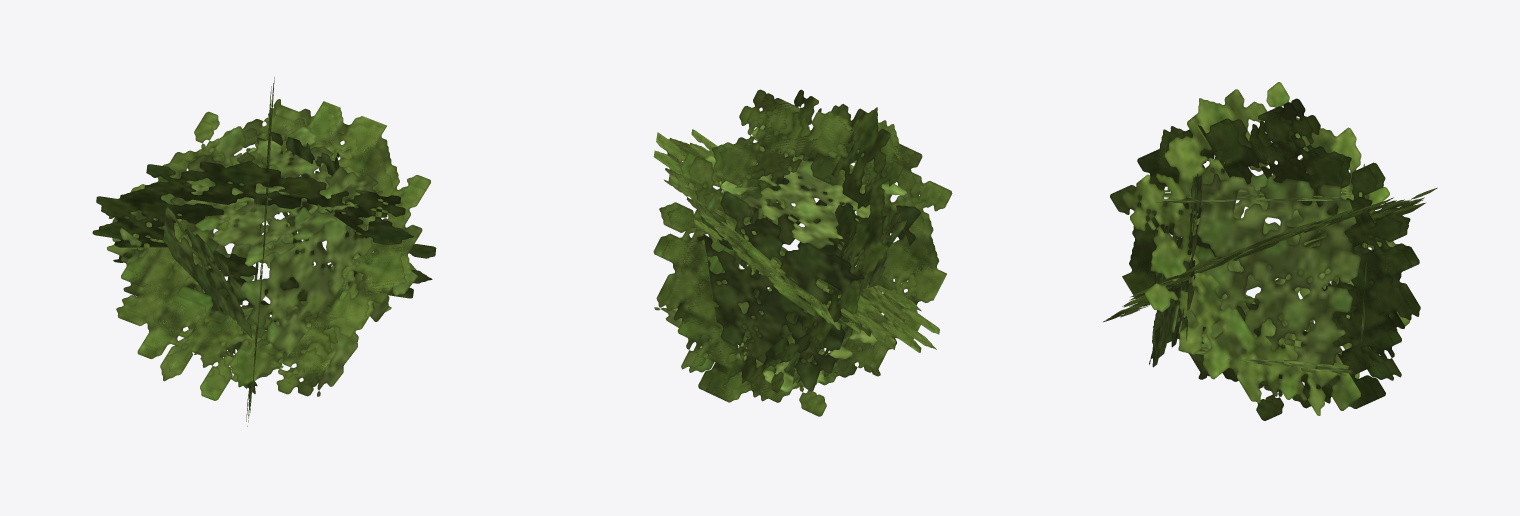
File: hornbeam_leaves_5.obj
The picture shows the model from 3 angles, left to right: view 1: azimuth 30°, elevation 25°; view 2: azimuth 150°, elevation 25°; view 3: azimuth 270°, elevation 25°; orthographic projection. The views are drawn at different scales.
Parts seen in each view (by area): view 1: east, west, bottom, north, top, south; view 2: south, top, west, east, north, bottom; view 3: west, south, east, bottom, north.
Part boxes in pixels (x1,y1,x2,y2): east: [107, 99, 430, 400]; west: [92, 132, 436, 329]; bottom: [240, 166, 417, 396]; north: [170, 126, 382, 266]; top: [109, 126, 290, 292]; south: [194, 77, 391, 426]; south: [653, 89, 952, 416]; top: [677, 191, 864, 391]; west: [707, 89, 903, 392]; east: [653, 129, 939, 384]; north: [705, 124, 906, 248]; bottom: [760, 124, 920, 281]; west: [1122, 82, 1409, 415]; south: [1110, 98, 1420, 420]; east: [1103, 147, 1437, 376]; bottom: [1149, 173, 1201, 367]; north: [1156, 186, 1352, 202].
Size of the model in its own units: 2.27 by 2.25 by 1.98.
